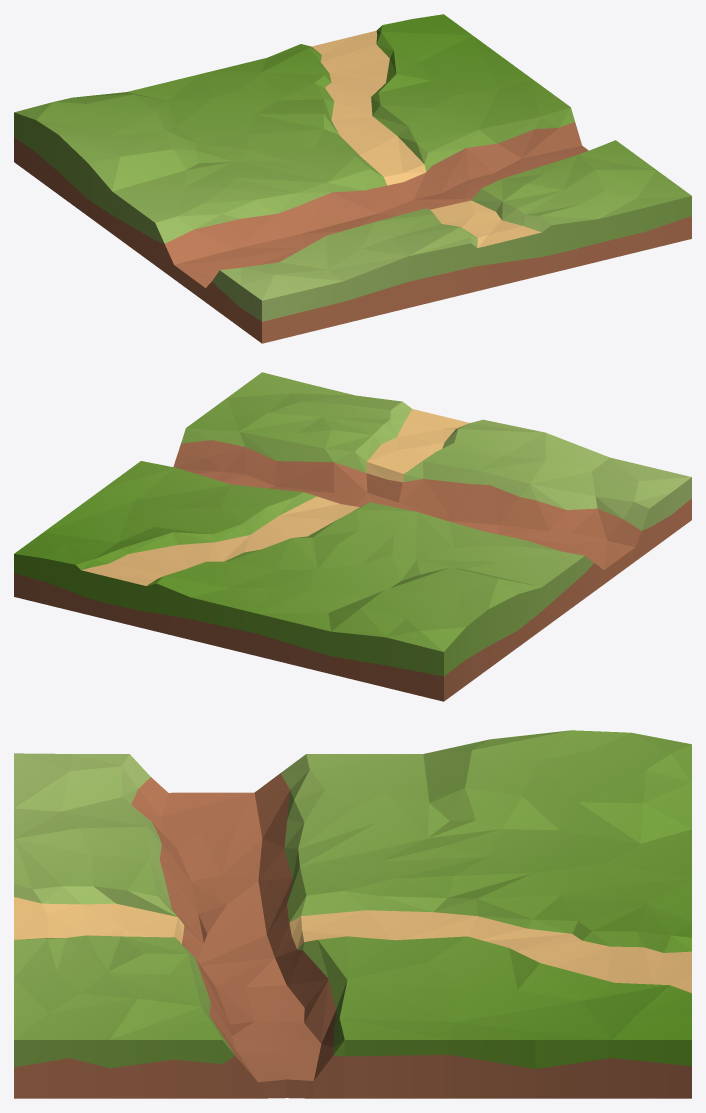
The model's file is land camping forest.fbx.
3 views of the same model, one above another, from view 1: azimuth 30°, elevation 25°; view 2: azimuth 150°, elevation 25°; view 3: azimuth 270°, elevation 25° (orthographic). The views are drawn at different scales.
Visible parts, largest first — view 1: land camping forest; view 2: land camping forest; view 3: land camping forest.
Boxes of the visible parts, x1,y1,x2,y2 form: land camping forest: (14, 14, 691, 343); land camping forest: (14, 372, 691, 701); land camping forest: (14, 730, 691, 1098).
Bounding box in the file's own units: 4500 × 599 × 4500.
